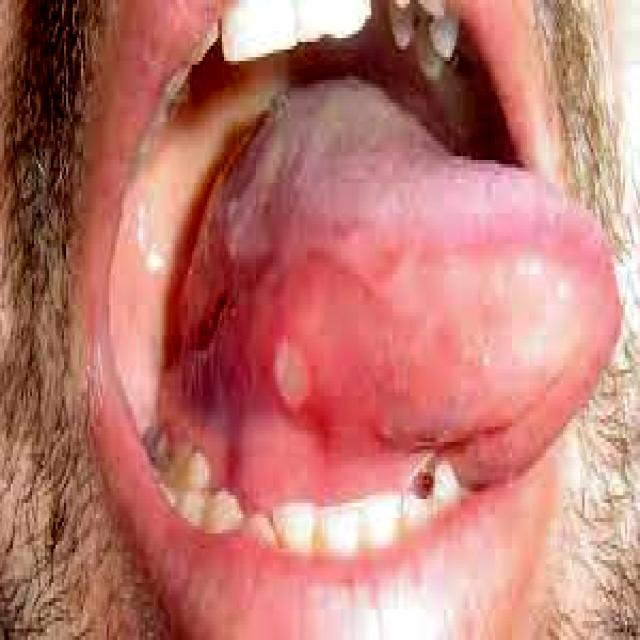ulcer: (273, 339, 307, 408)
